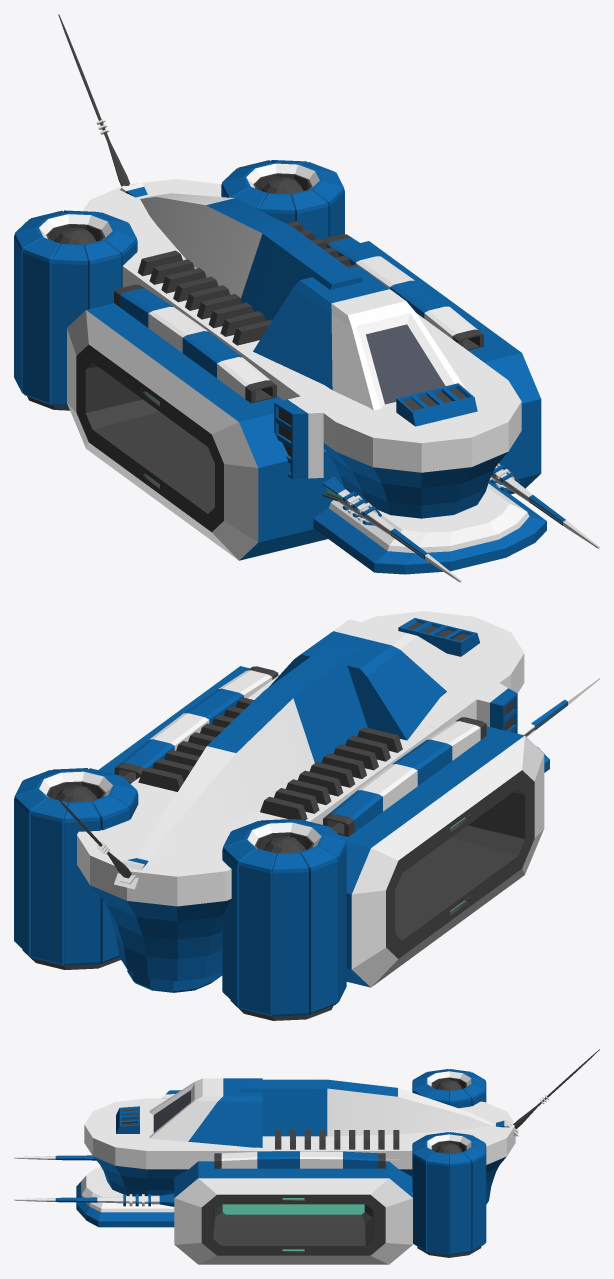
File: mothership.fbx
3 views of the same model, one above another, from view 1: azimuth 30°, elevation 25°; view 2: azimuth 150°, elevation 25°; view 3: azimuth 270°, elevation 25° (orthographic). The views are drawn at different scales.
Parts seen in each view (by area): view 1: Dock02_55, Hull20_54, Cabin12_70, Core03_57, Hull05_75, Hull03_66, Core03_58, Engine09_59, Dock02_56, Greeble05_76, Hull20_52, Engine09_60 (+7 smaller); view 2: Dock02_55, Core03_57, Hull20_52, Hull05_75, Core03_58, Cabin12_70, Hull20_54, Engine09_59, Greeble05_76, Engine09_60, Greeble05_77, Greeble07_78 (+6 smaller); view 3: Dock02_56, Hull05_75, Core03_58, Hull20_54, Cabin12_70, Hull20_52, Engine09_60, Hull03_67, Core03_57, Hull20a_53, Greeble05_77, Engine06_69 (+4 smaller).
Part boxes in pixels (x1=…): Dock02_55: x1=67, y1=303, x2=343, y2=560; Hull20_54: x1=263, y1=326, x2=521, y2=518; Cabin12_70: x1=253, y1=266, x2=464, y2=410; Core03_57: x1=14, y1=210, x2=137, y2=410; Hull05_75: x1=140, y1=193, x2=362, y2=320; Hull03_66: x1=313, y1=500, x2=478, y2=574; Core03_58: x1=221, y1=160, x2=344, y2=239; Engine09_59: x1=114, y1=284, x2=276, y2=403; Dock02_56: x1=360, y1=241, x2=541, y2=494; Greeble05_76: x1=137, y1=250, x2=271, y2=345; Hull20_52: x1=83, y1=179, x2=221, y2=299; Engine09_60: x1=322, y1=234, x2=483, y2=350; Dock02_55: x1=339, y1=726, x2=544, y2=987; Core03_57: x1=222, y1=819, x2=346, y2=1020; Hull20_52: x1=77, y1=777, x2=337, y2=981; Hull05_75: x1=140, y1=640, x2=367, y2=858; Core03_58: x1=14, y1=768, x2=138, y2=969; Cabin12_70: x1=268, y1=619, x2=467, y2=740; Hull20_54: x1=264, y1=611, x2=524, y2=732; Engine09_59: x1=323, y1=717, x2=486, y2=836; Greeble05_76: x1=260, y1=727, x2=402, y2=820; Engine09_60: x1=114, y1=666, x2=278, y2=783; Greeble05_77: x1=138, y1=697, x2=253, y2=791; Greeble07_78: x1=398, y1=618, x2=479, y2=656; Dock02_56: x1=174, y1=1161, x2=412, y2=1264; Hull05_75: x1=240, y1=1079, x2=492, y2=1136; Core03_58: x1=412, y1=1132, x2=486, y2=1257; Hull20_54: x1=84, y1=1098, x2=237, y2=1196; Cabin12_70: x1=149, y1=1078, x2=262, y2=1147; Hull20_52: x1=362, y1=1101, x2=515, y2=1204; Engine09_60: x1=214, y1=1151, x2=385, y2=1168; Hull03_67: x1=76, y1=1181, x2=174, y2=1227; Core03_57: x1=412, y1=1069, x2=486, y2=1108; Hull20a_53: x1=237, y1=1135, x2=362, y2=1152; Greeble05_77: x1=275, y1=1130, x2=399, y2=1159; Engine06_69: x1=14, y1=1193, x2=174, y2=1206.
Bounding box in the file's own units: 18.23 × 15.3 × 47.12.
